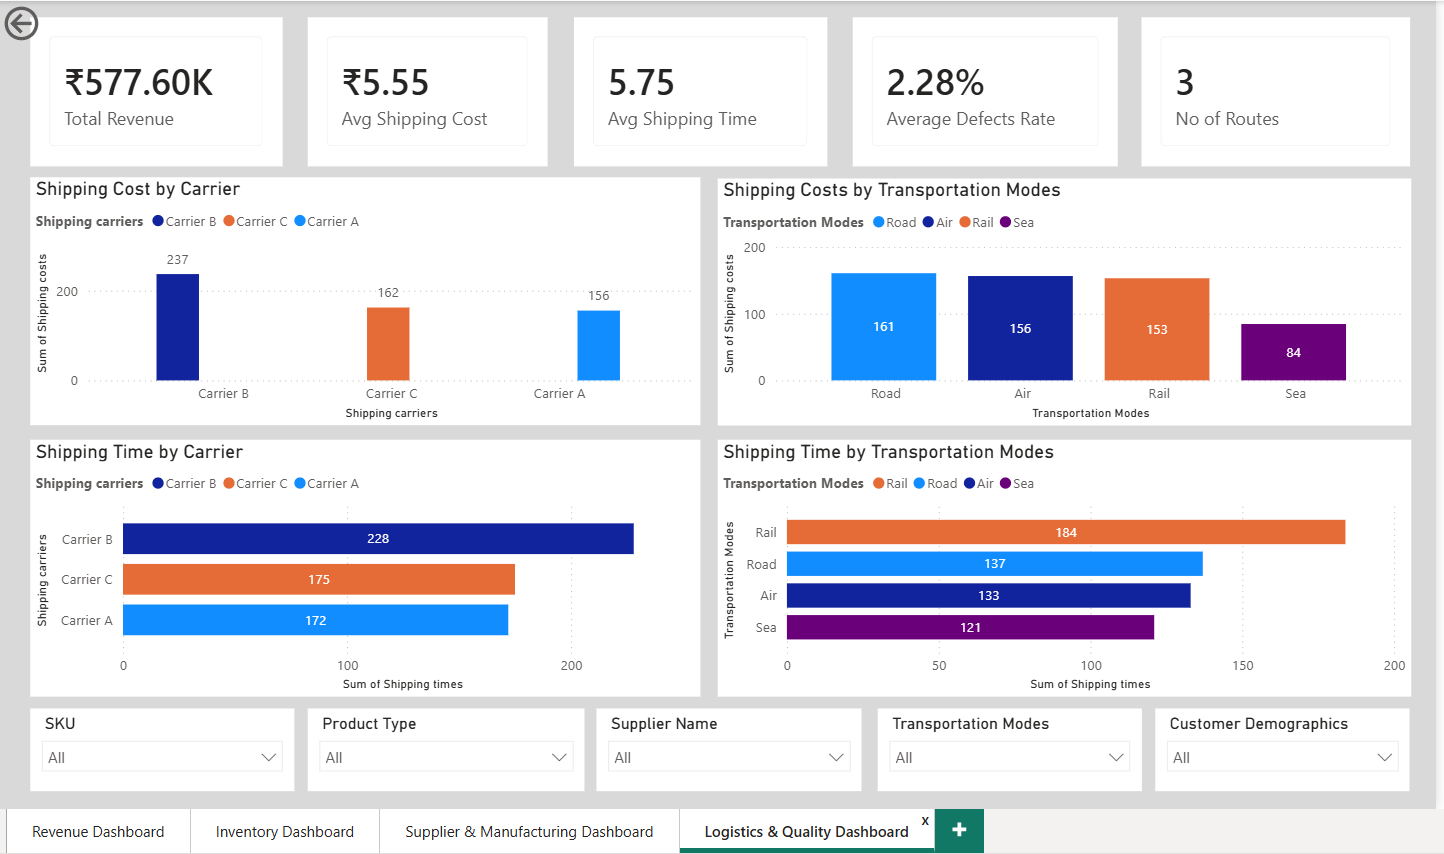

What the dashboard file says about the page in this screenshot:
{"tool":"powerbi","page":{"name":"Logistics & Quality Dashboard","canvas":[1280,720],"ordinal":3},"visuals":[{"type":"slicer","fields":{"Values":["supply_chain_data.Product type"]},"box":[274.4,630.2,246.5,73.3],"z":0},{"type":"slicer","fields":{"Values":["supply_chain_data.Supplier name"]},"box":[532.6,630.2,236,73.3],"z":1000},{"type":"slicer","fields":{"Values":["supply_chain_data.Transportation modes"]},"box":[782.6,630.2,234.9,73.3],"z":2000},{"type":"slicer","fields":{"Values":["supply_chain_data.Customer Demographics"]},"box":[1030.2,630.2,226.7,73.3],"z":3000},{"type":"slicer","fields":{"Values":["supply_chain_data.SKU"]},"box":[27.9,630.2,234.9,73.3],"z":4000},{"type":"cardVisual","fields":{"Data":["supply_chain_data.Total Revenue"]},"box":[27.9,14,224.4,132.6],"z":5000},{"type":"cardVisual","fields":{"Data":["supply_chain_data.Avg Shipping Cost"]},"box":[274.4,14,214,132.6],"z":6000},{"type":"cardVisual","fields":{"Data":["supply_chain_data.Avg Shipping Time"]},"box":[511.6,14,225.6,132.6],"z":7000},{"type":"cardVisual","fields":{"Data":["supply_chain_data.Average Defects Rate"]},"box":[760.5,14,236,132.6],"z":8000},{"type":"cardVisual","fields":{"Data":["supply_chain_data.No of Routes"]},"box":[1017.4,14,239.5,132.6],"z":9000},{"type":"clusteredColumnChart","title":"Shipping Cost by Carrier","fields":{"Y":["Sum(supply_chain_data.Shipping costs)"],"Category":["supply_chain_data.Shipping carriers"],"Series":["supply_chain_data.Shipping carriers"]},"box":[27.9,157,596.5,220.9],"z":10000},{"type":"columnChart","title":"Shipping Costs by Transportation Modes","fields":{"Y":["Sum(supply_chain_data.Shipping costs)"],"Category":["supply_chain_data.Transportation Modes"],"Series":["supply_chain_data.Transportation Modes"]},"box":[639.5,158.1,617.4,219.8],"z":11000},{"type":"barChart","title":"Shipping Time by Carrier","fields":{"Y":["Sum(supply_chain_data.Shipping times)"],"Category":["supply_chain_data.Shipping carriers"],"Series":["supply_chain_data.Shipping carriers"]},"box":[27.9,390.7,596.5,229.1],"z":12000},{"type":"barChart","title":"Shipping Time by Transportation Modes","fields":{"Y":["Sum(supply_chain_data.Shipping times)"],"Category":["supply_chain_data.Transportation Modes"],"Series":["supply_chain_data.Transportation Modes"]},"box":[639.5,390.7,617.4,229.1],"z":13000},{"type":"actionButton","box":[0,0,100,40],"z":14000}]}

Visuals, with their boxes on the page's 1280x720 design canvas (x1, y1, x2, y2). These are canvas units, not pixel positions in the 1444x854 screenshot, which may show the page scaled, cropped or inside an application window:
slicer - supply_chain_data.Product type: (274, 630, 521, 704)
slicer - supply_chain_data.Supplier name: (533, 630, 769, 704)
slicer - supply_chain_data.Transportation modes: (783, 630, 1018, 704)
slicer - supply_chain_data.Customer Demographics: (1030, 630, 1257, 704)
slicer - supply_chain_data.SKU: (28, 630, 263, 704)
cardVisual - supply_chain_data.Total Revenue: (28, 14, 252, 147)
cardVisual - supply_chain_data.Avg Shipping Cost: (274, 14, 488, 147)
cardVisual - supply_chain_data.Avg Shipping Time: (512, 14, 737, 147)
cardVisual - supply_chain_data.Average Defects Rate: (760, 14, 996, 147)
cardVisual - supply_chain_data.No of Routes: (1017, 14, 1257, 147)
"Shipping Cost by Carrier" clusteredColumnChart: (28, 157, 624, 378)
"Shipping Costs by Transportation Modes" columnChart: (640, 158, 1257, 378)
"Shipping Time by Carrier" barChart: (28, 391, 624, 620)
"Shipping Time by Transportation Modes" barChart: (640, 391, 1257, 620)
actionButton: (0, 0, 100, 40)
